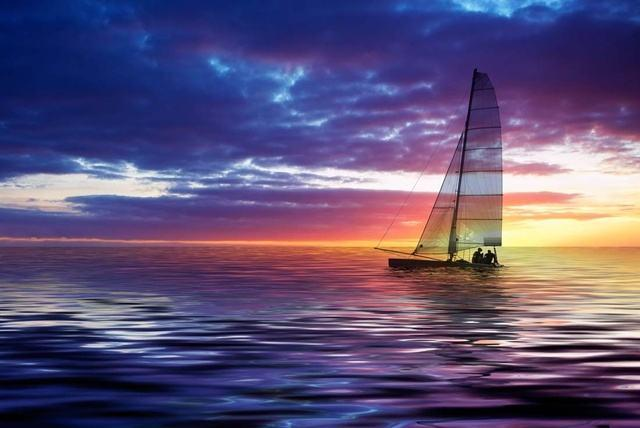fanchuan: (370, 70, 520, 273)
